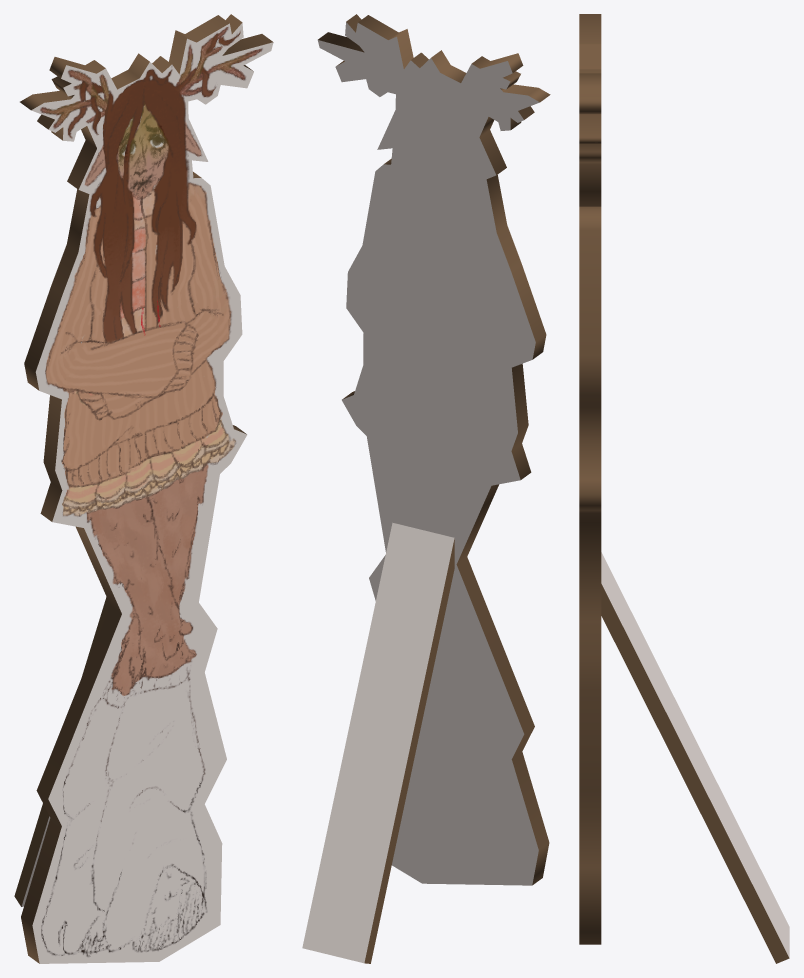
File: Gullan_Nauseous.fbx
3 renders of one model, left to right at view 1: azimuth 30°, elevation 25°; view 2: azimuth 150°, elevation 25°; view 3: azimuth 270°, elevation 25°, orthographic. The views are drawn at different scales.
Parts seen in each view (by area): view 1: Gullan_Nauseous; view 2: Gullan_Nauseous; view 3: Gullan_Nauseous.
Boxes of the visible parts, x1=… form: Gullan_Nauseous: x1=14, y1=14, x2=273, y2=963; Gullan_Nauseous: x1=302, y1=14, x2=550, y2=963; Gullan_Nauseous: x1=579, y1=14, x2=789, y2=963.
Bounding box in the file's own units: 49.82 × 183 × 39.1.
Materials: 1 (1 with a texture image).
